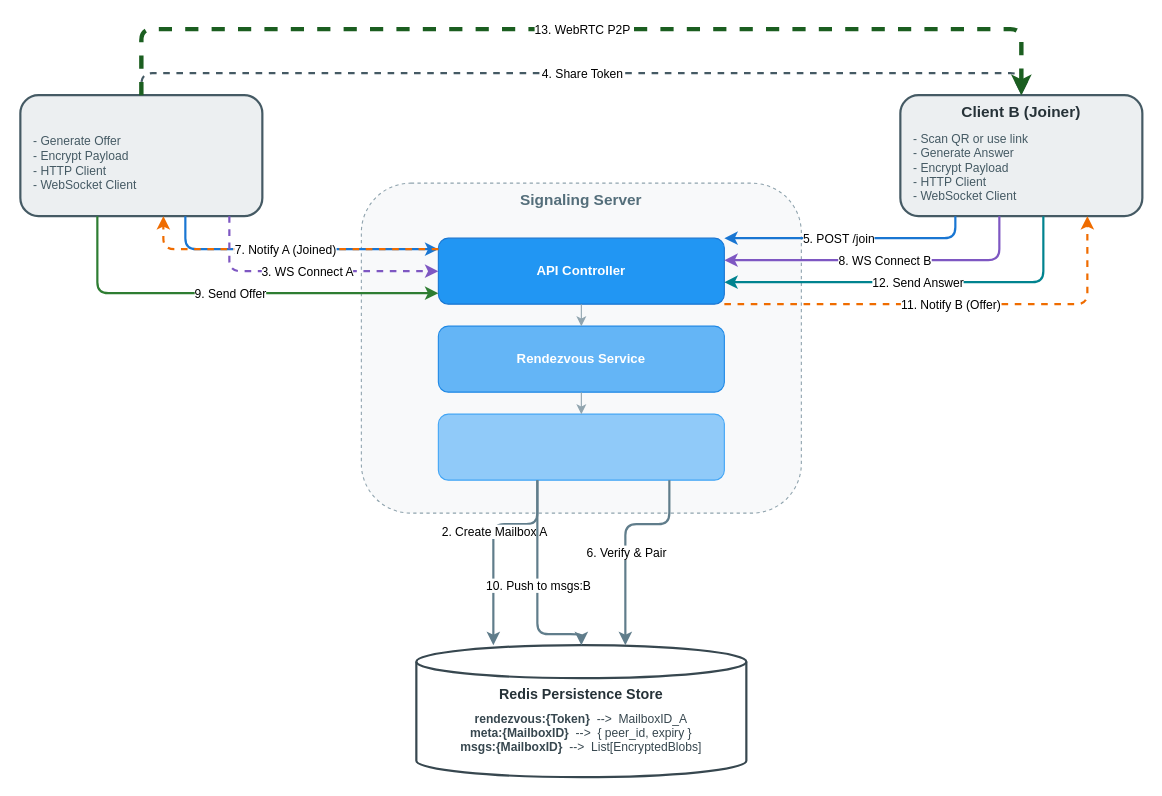
Some shapes in this 1162 by 796 pixel diagram are drawn without their labels. Each missing label, with the box of its shape:
Client A (Initiator): (19, 94, 263, 217)
Redis Repository: (437, 413, 724, 480)
